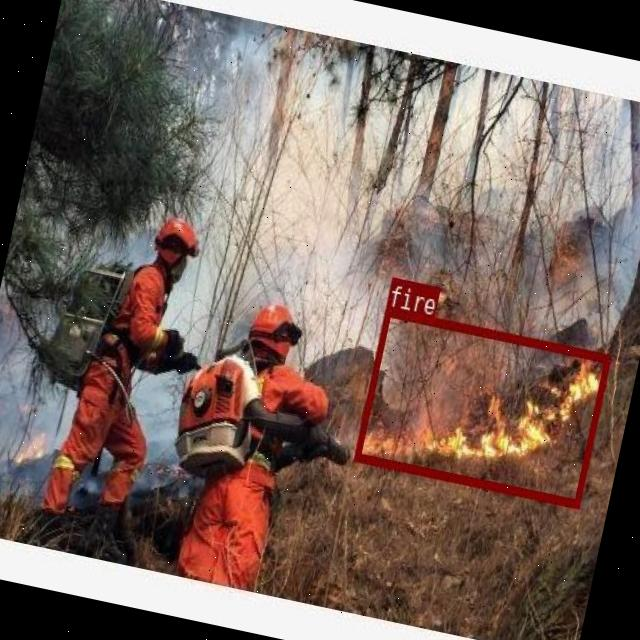fire: (352, 306, 610, 507)
